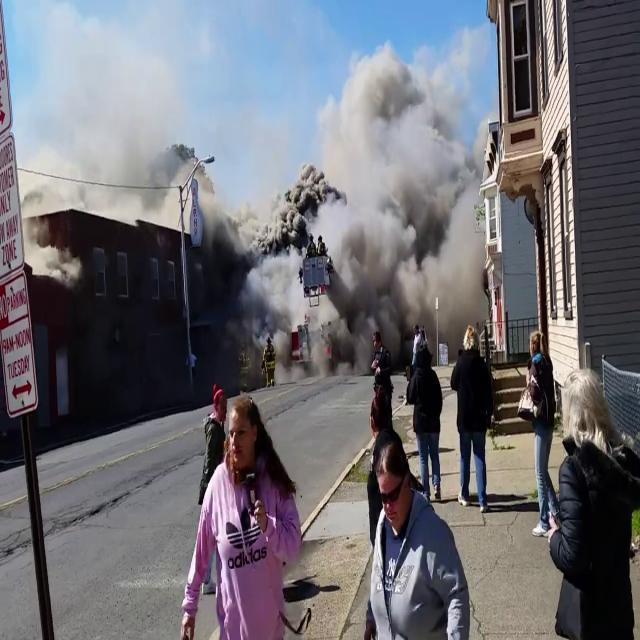Smoke: (271, 34, 493, 352)
